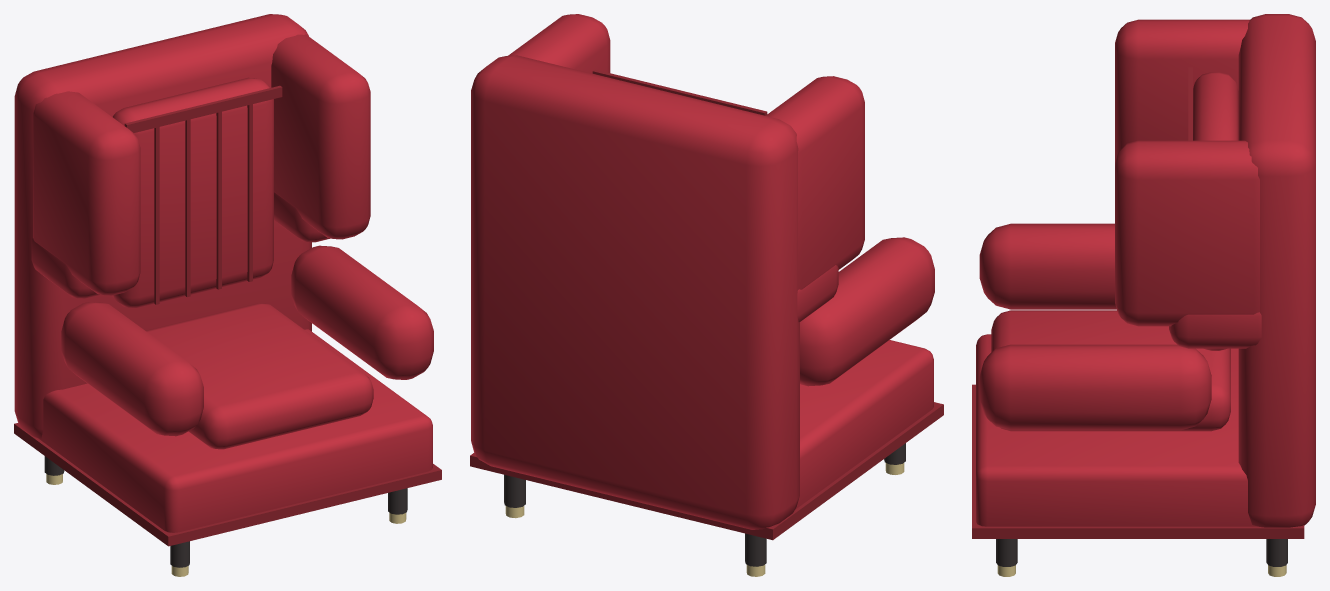
File: bb_set_wingback.fbx
3 renders of one model, left to right at view 1: azimuth 30°, elevation 25°; view 2: azimuth 150°, elevation 25°; view 3: azimuth 270°, elevation 25°, orthographic. The views are drawn at different scales.
Parts seen in each view (by area): view 1: bb_set_wingback; view 2: bb_set_wingback; view 3: bb_set_wingback.
Part boxes in pixels (x1,y1,x2,y2): bb_set_wingback: (14,14,441,576); bb_set_wingback: (470,14,943,576); bb_set_wingback: (972,14,1315,576).
Bounding box in the file's own units: 0.92 × 1.25 × 0.89.
